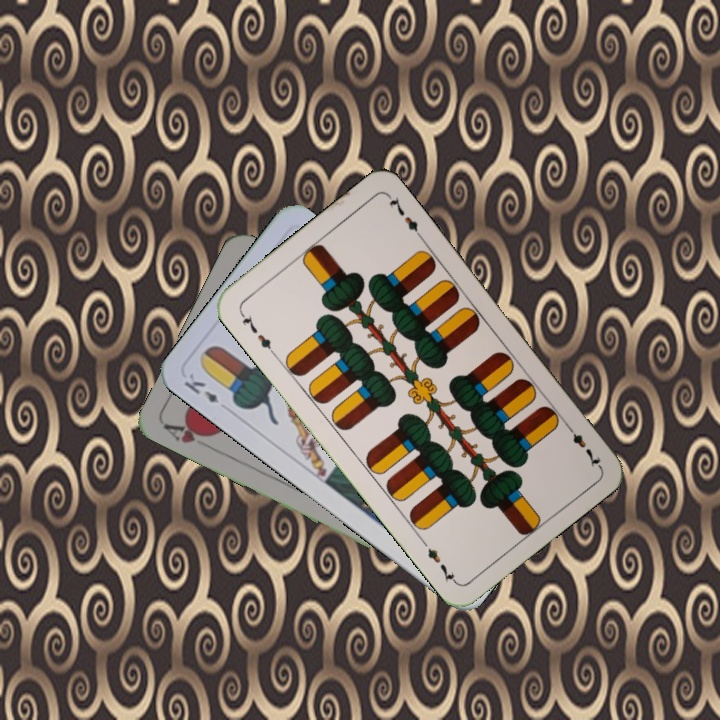E7: (561, 419, 604, 470), (236, 308, 278, 358)
EK: (180, 369, 221, 406)
HA: (160, 417, 217, 446)
